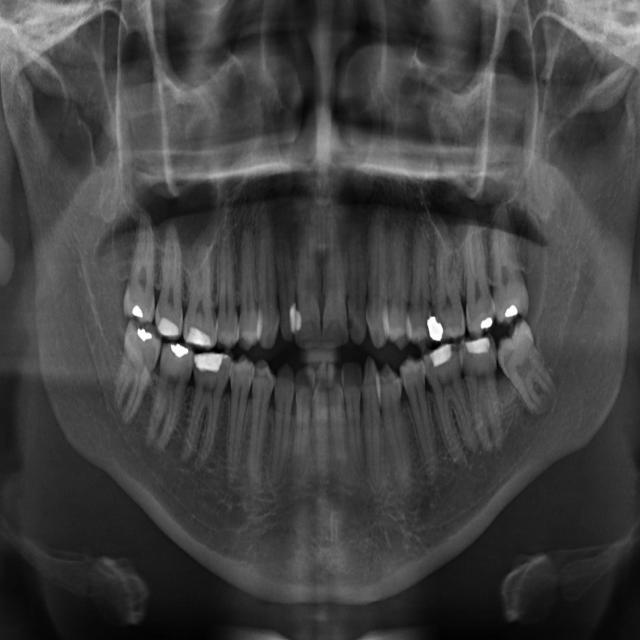3M ESPE Implant: (122, 210, 160, 321)
AGS Medikal Implant: (483, 407, 483, 408)
AMerOss Implant: (419, 339, 482, 471)
Amalgam filling: (170, 233, 171, 234)
Anthogyr Implant: (397, 351, 449, 484)
Bicon Implant: (377, 360, 412, 492)
BioHorizons Implant: (360, 354, 383, 489)
BioLife Implant: (342, 360, 366, 476)
Biomet 3i Implant: (324, 358, 351, 470)
Blue Sky Bio Implant: (311, 360, 331, 478)
Camlog Implant: (289, 362, 314, 479)
Caries: (348, 216, 367, 346)
Composite filling: (270, 361, 295, 488)
Cowellmedi Implant: (243, 358, 275, 481)
Crown: (218, 352, 254, 487)
DENTSPLY Implant: (179, 224, 217, 347)
Dentatus Implant: (179, 345, 232, 475)
Dentis Implant: (152, 445, 152, 446)
Dentium Implant: (109, 319, 165, 427)
Euroteknika Implant: (210, 217, 241, 350)
Filling: (239, 226, 258, 352)
Frontier Implant: (255, 199, 280, 350)
Hiossen Implant: (367, 202, 388, 349)
Implant: (294, 210, 321, 350)
Implant Direct: (272, 202, 300, 342)
Keystone Dental Implant: (318, 214, 349, 351)
MIS Implant: (386, 227, 410, 350)
Mandible: (407, 213, 434, 347)
Maxilla: (429, 235, 466, 341)
Megagen Implant: (459, 219, 497, 335)
Neodent Implant: (483, 196, 532, 328)
Neoss Implant: (484, 315, 566, 424)
